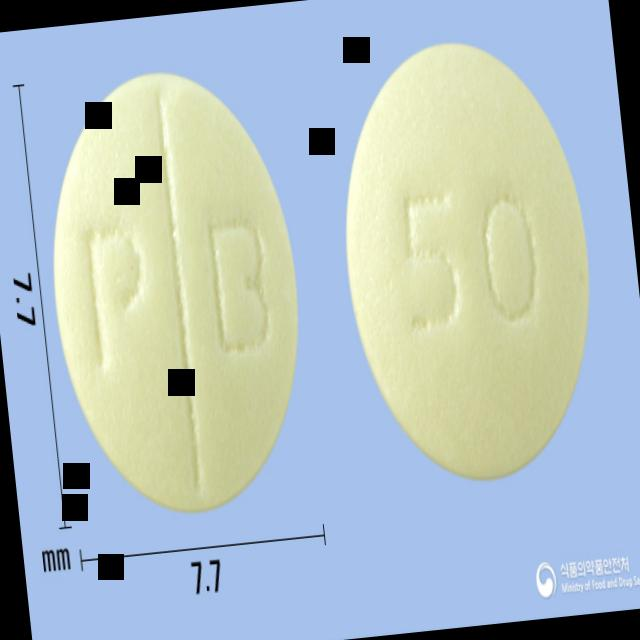Amocla 625mg: (33, 57, 320, 525), (324, 31, 610, 492)
